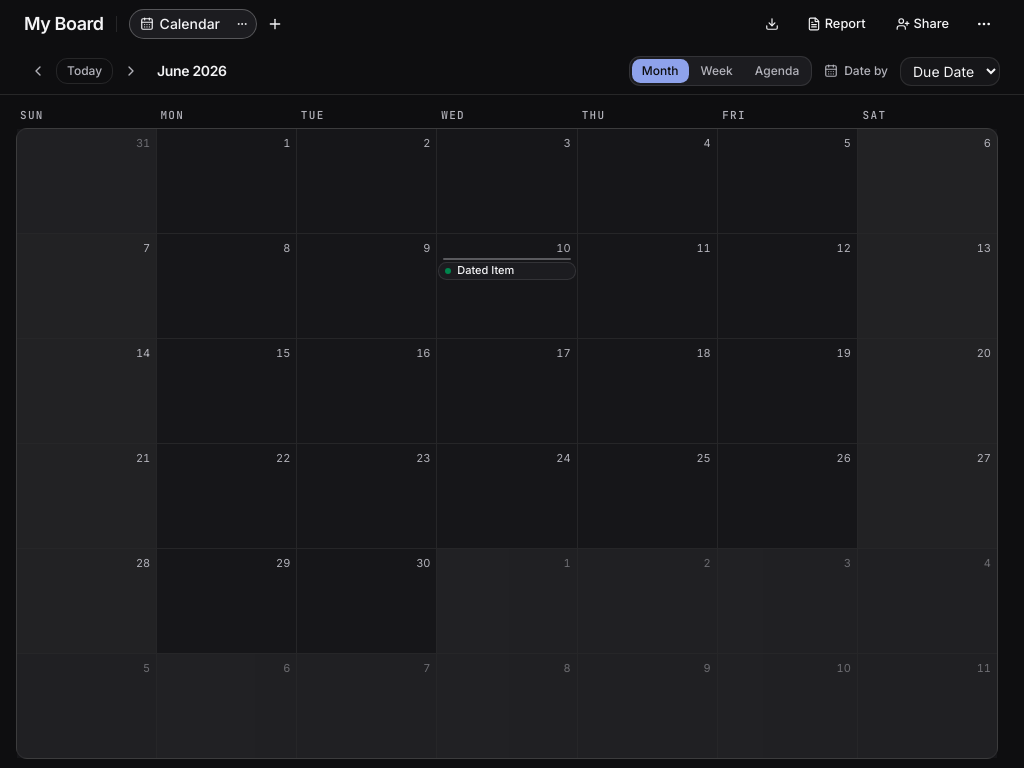
CalendarBoard — quick-edit peek › opens the quick-edit peek on event click instead of the item panel
What coordinates should you click on to do the following:
click the button labelled "Dated Item"
I would click on:
 (507, 270)
Its box is left=438, top=262, right=576, bottom=280.
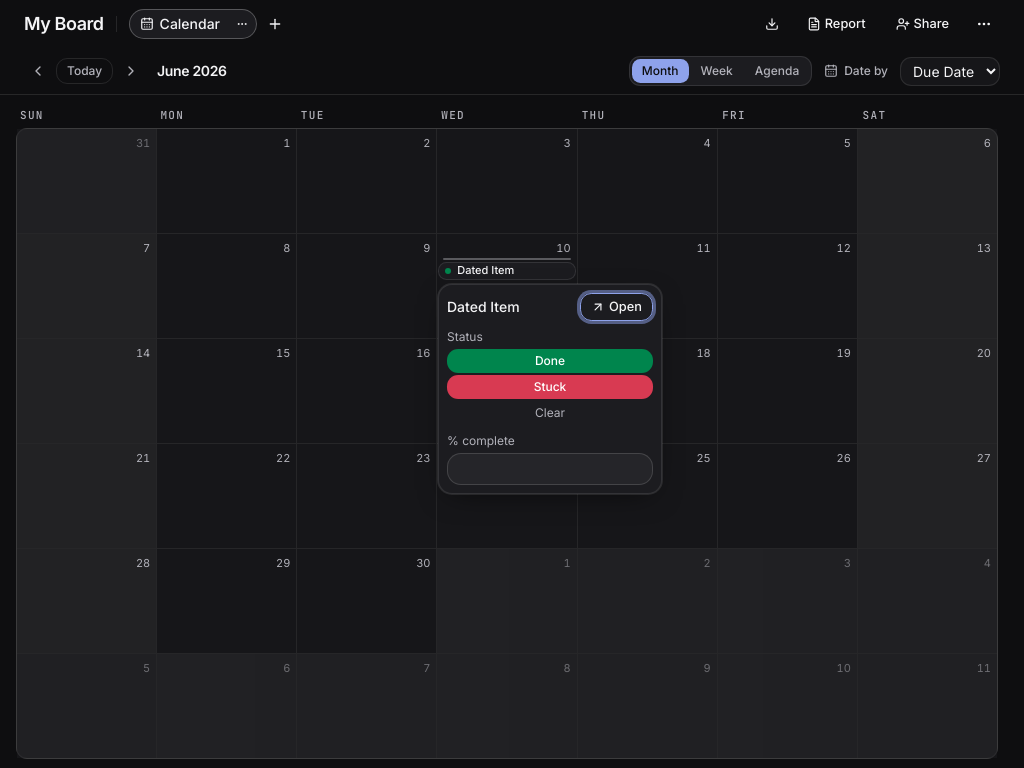
expect the dialog named "Edit Dated Item" is shown: met, box left=438, top=284, right=662, bottom=494
